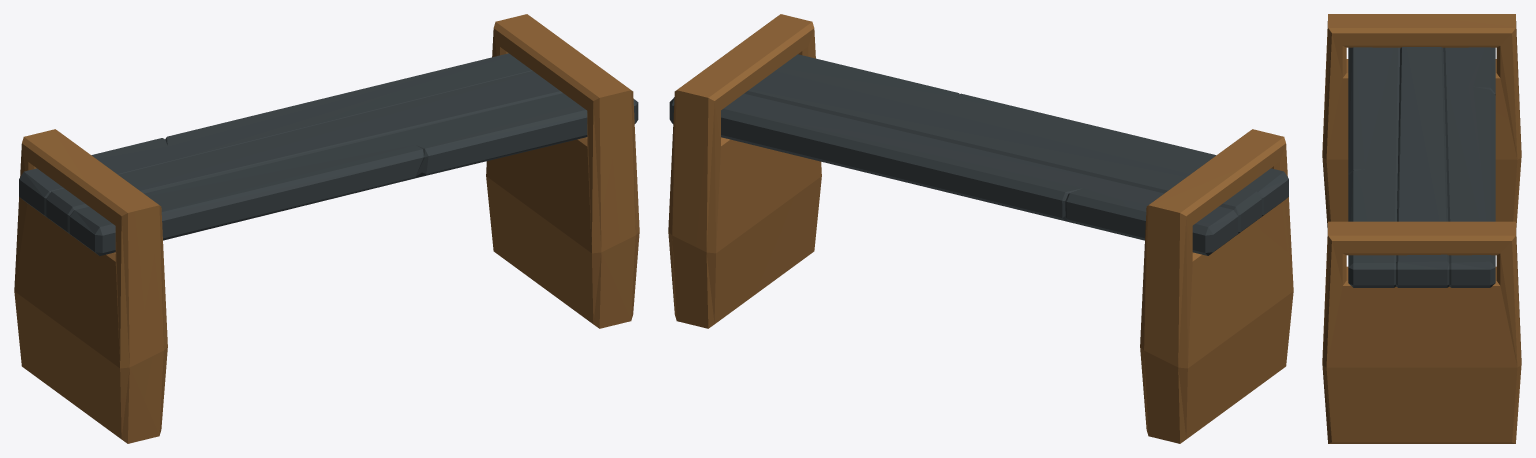
The model's file is bench_c.gltf.
The picture shows the model from 3 angles, left to right: view 1: azimuth 30°, elevation 25°; view 2: azimuth 150°, elevation 25°; view 3: azimuth 270°, elevation 25°; orthographic projection. The views are drawn at different scales.
Parts seen in each view (by area): view 1: bench_c001; view 2: bench_c001; view 3: bench_c001.
Boxes of the visible parts, bbox=[...] form: bench_c001: bbox=[14, 14, 639, 443]; bench_c001: bbox=[668, 14, 1293, 443]; bench_c001: bbox=[1322, 14, 1521, 443].
Bounding box in the file's own units: 1.34 × 0.5449 × 0.4716.
Materials: 1 (1 with a texture image).
